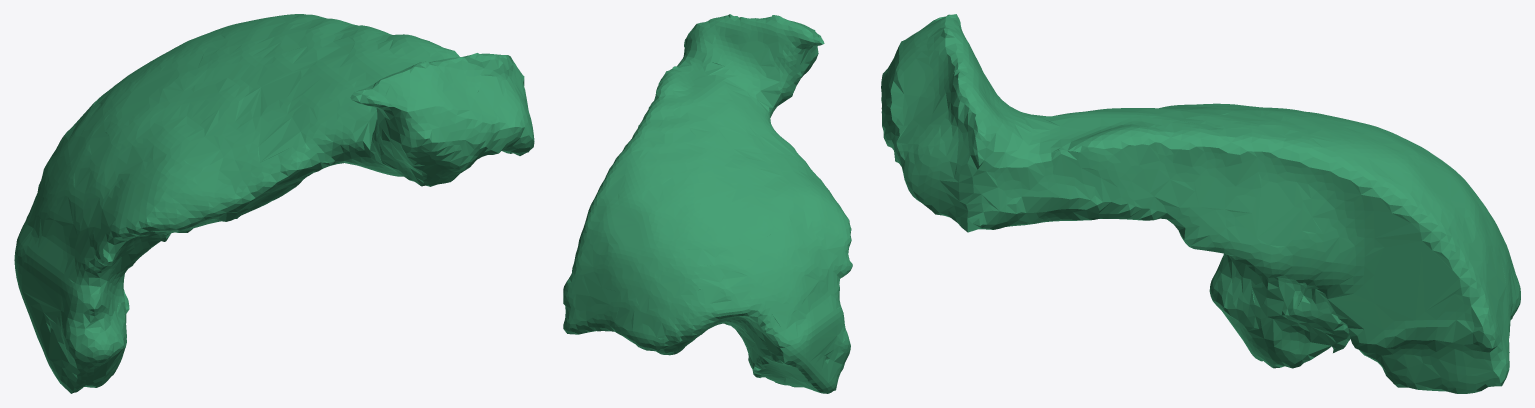
File: Model_113_RH__Piriform_cortex_(Pir).obj
3 renders of one model, left to right at view 1: azimuth 30°, elevation 25°; view 2: azimuth 150°, elevation 25°; view 3: azimuth 270°, elevation 25°, orthographic. The views are drawn at different scales.
Size of the model in its own units: 4.55 by 4.73 by 6.32.
